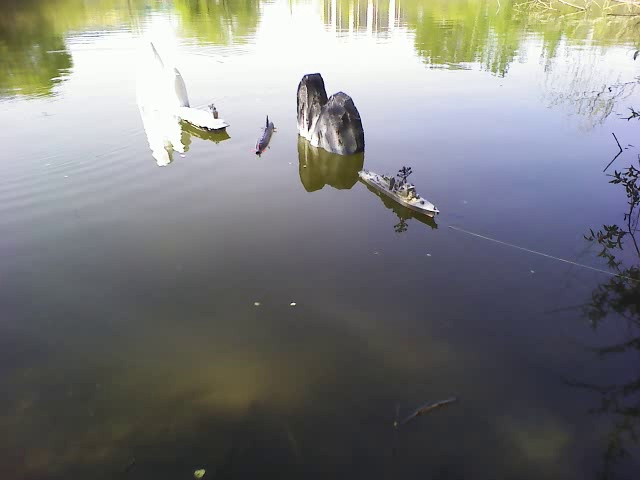aircraft_carrier: (180, 105, 237, 132)
iceberg: (128, 33, 193, 108)
rock: (297, 71, 366, 156)
submarine: (255, 115, 281, 156)
warship: (359, 163, 449, 219)
